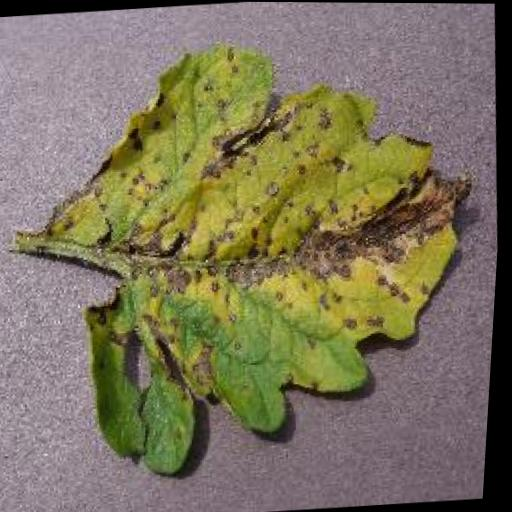Septoria: (34, 29, 501, 481)
